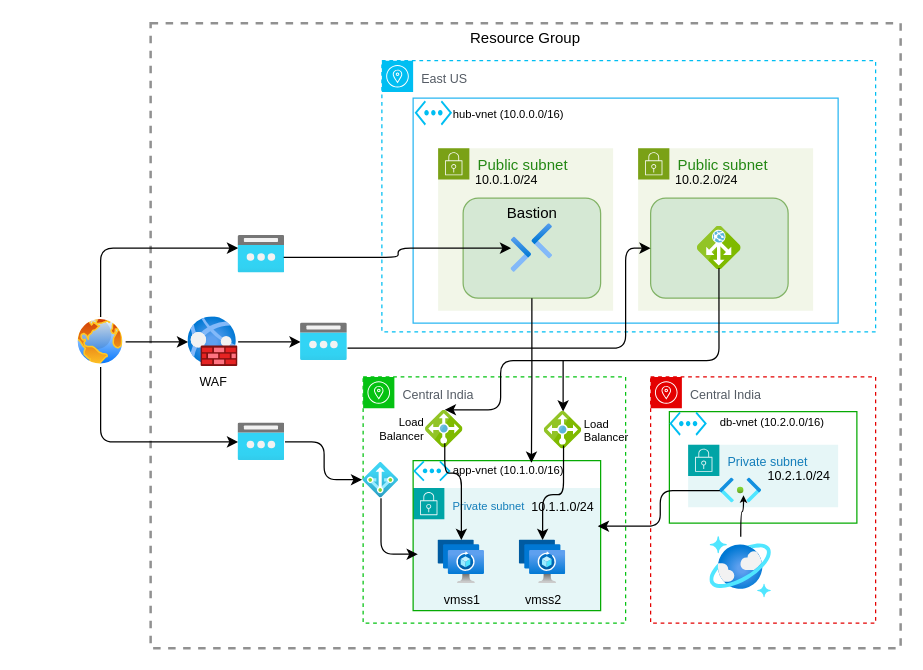
The diagram is 923 pixels wide and 670 high, and some of its shapes have lost their labels. The shapes that lost their labels are listed below. From the top down, each one's centre as x and y in pixels, then its label:
(261,253): Bastion-PIP
(719,247): app gw
(100,341): Internet
(323,341): app-gw-PIP
(261,441): NAT-PIP
(380,480): NAT
(740,567): CosmosDB
